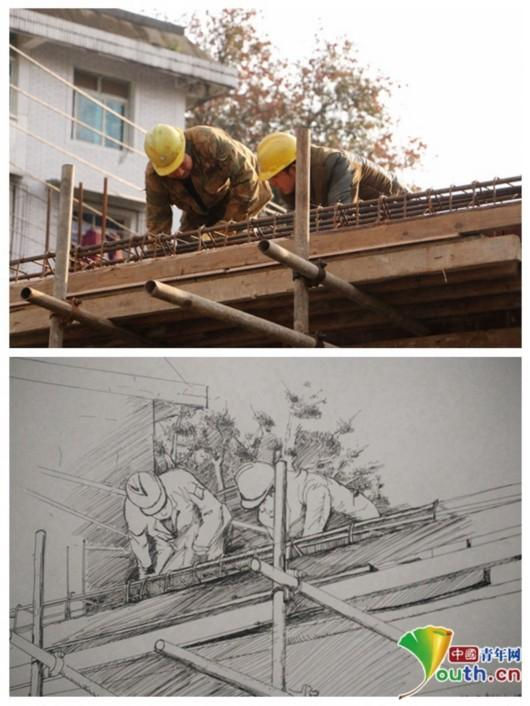helmet: (145, 124, 188, 179), (255, 133, 302, 182), (125, 469, 167, 519), (235, 462, 276, 509)
